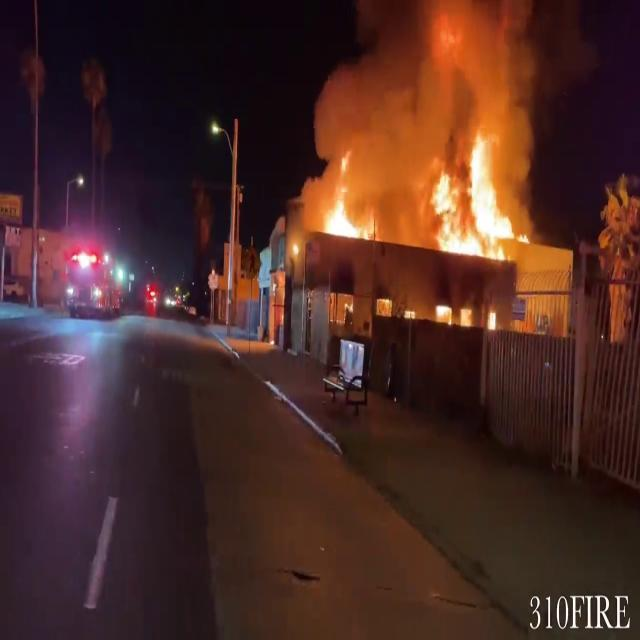Fire: (425, 127, 535, 266), (318, 168, 377, 248)
Smoke: (308, 0, 548, 150)
